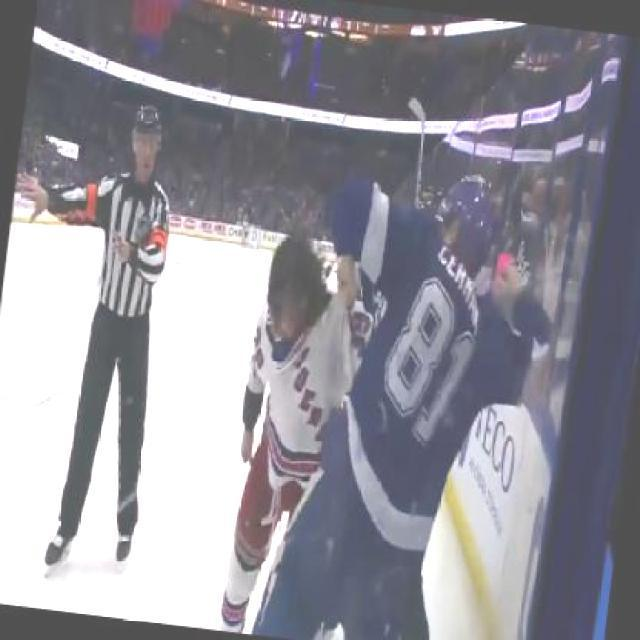fight: (214, 146, 542, 639)
non-fight: (37, 89, 191, 592)
